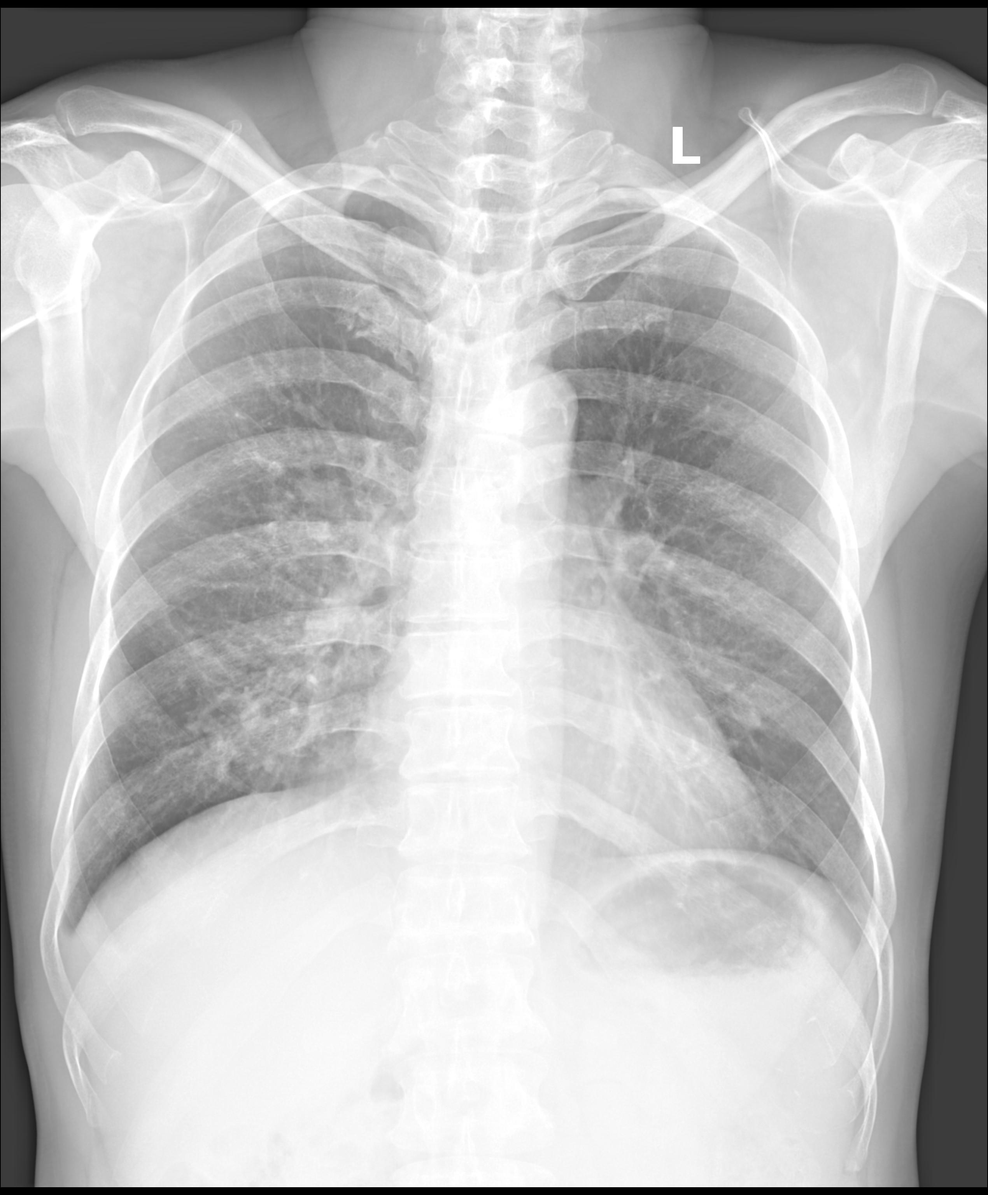Pleural thickening: (48, 885, 86, 956)
